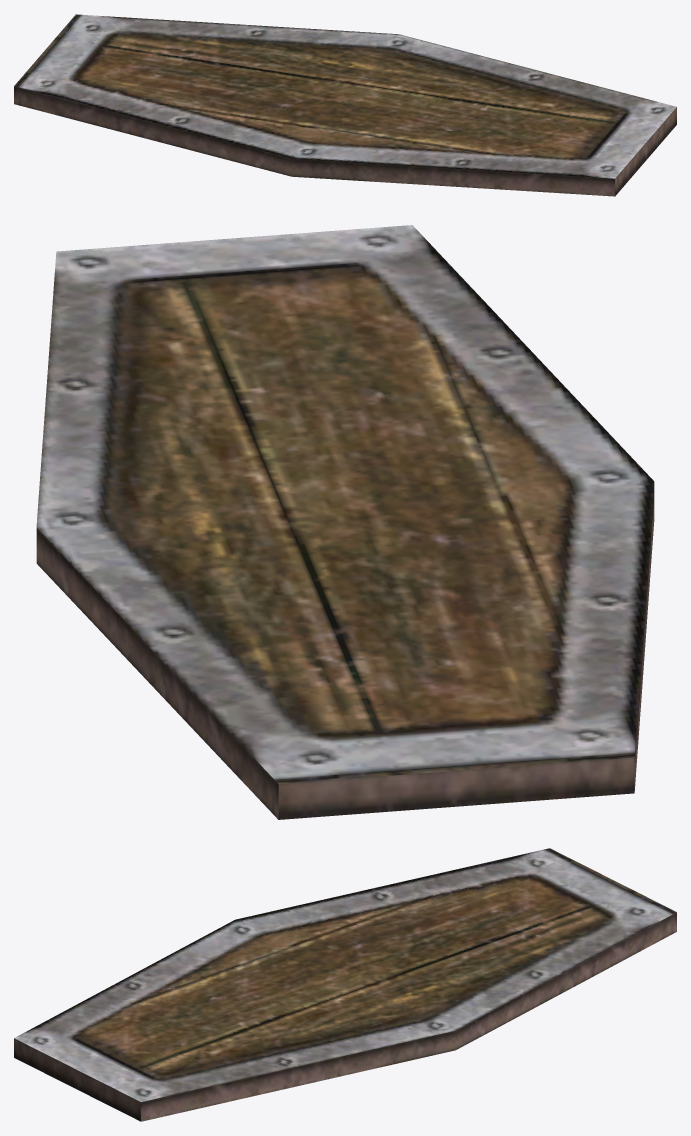
3 views of the same model, one above another, from view 1: azimuth 30°, elevation 25°; view 2: azimuth 150°, elevation 25°; view 3: azimuth 270°, elevation 25° (orthographic). The views are drawn at different scales.
Visible parts, largest first — view 1: ms9-col; view 2: ms9-col; view 3: ms9-col.
Part boxes in pixels (x1,y1,x2,y2): ms9-col: (14, 14, 676, 196); ms9-col: (36, 225, 654, 819); ms9-col: (14, 848, 676, 1121).
Bounding box in the file's own units: 0.8549 × 0.0308 × 0.9428.
1 material, 1 textured.
